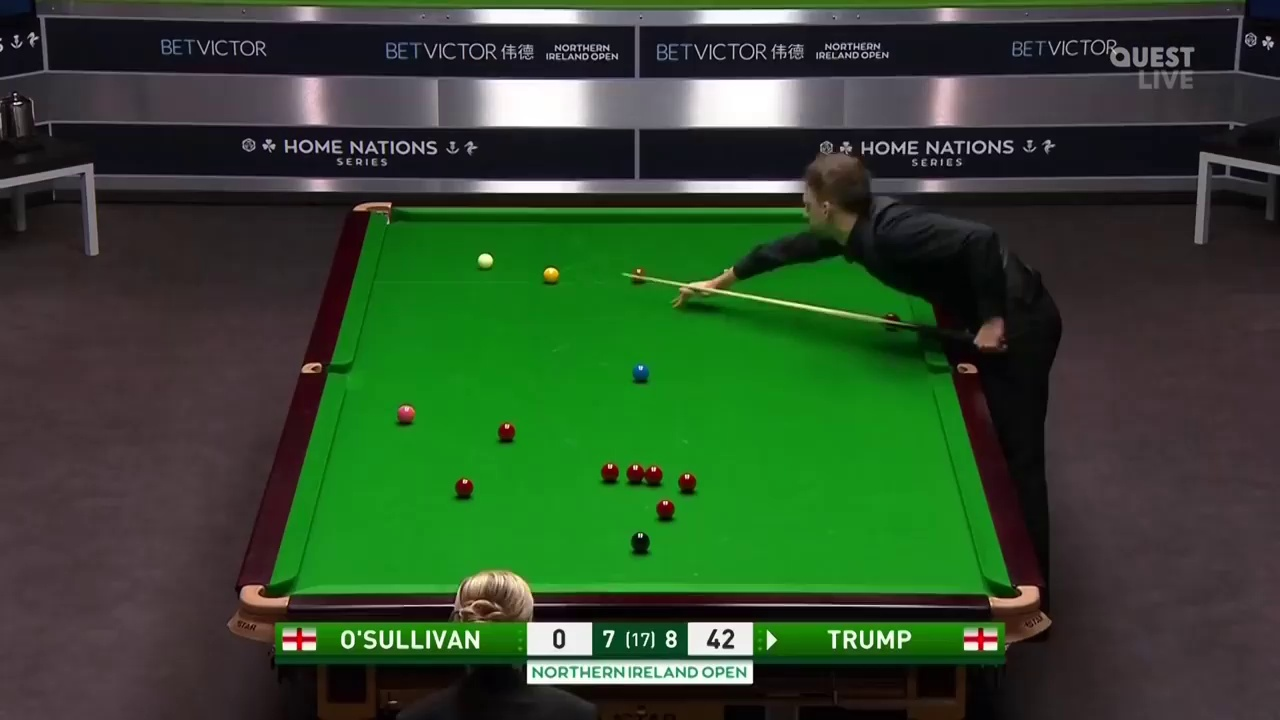black: (631, 535, 649, 552)
blue: (632, 366, 648, 382)
pink: (397, 406, 414, 423)
red: (643, 464, 664, 485), (655, 500, 675, 521), (453, 479, 474, 497), (680, 471, 696, 494), (496, 422, 517, 439), (600, 465, 618, 482), (629, 464, 642, 481)
white: (477, 252, 493, 267)
yellow: (543, 267, 559, 283)
